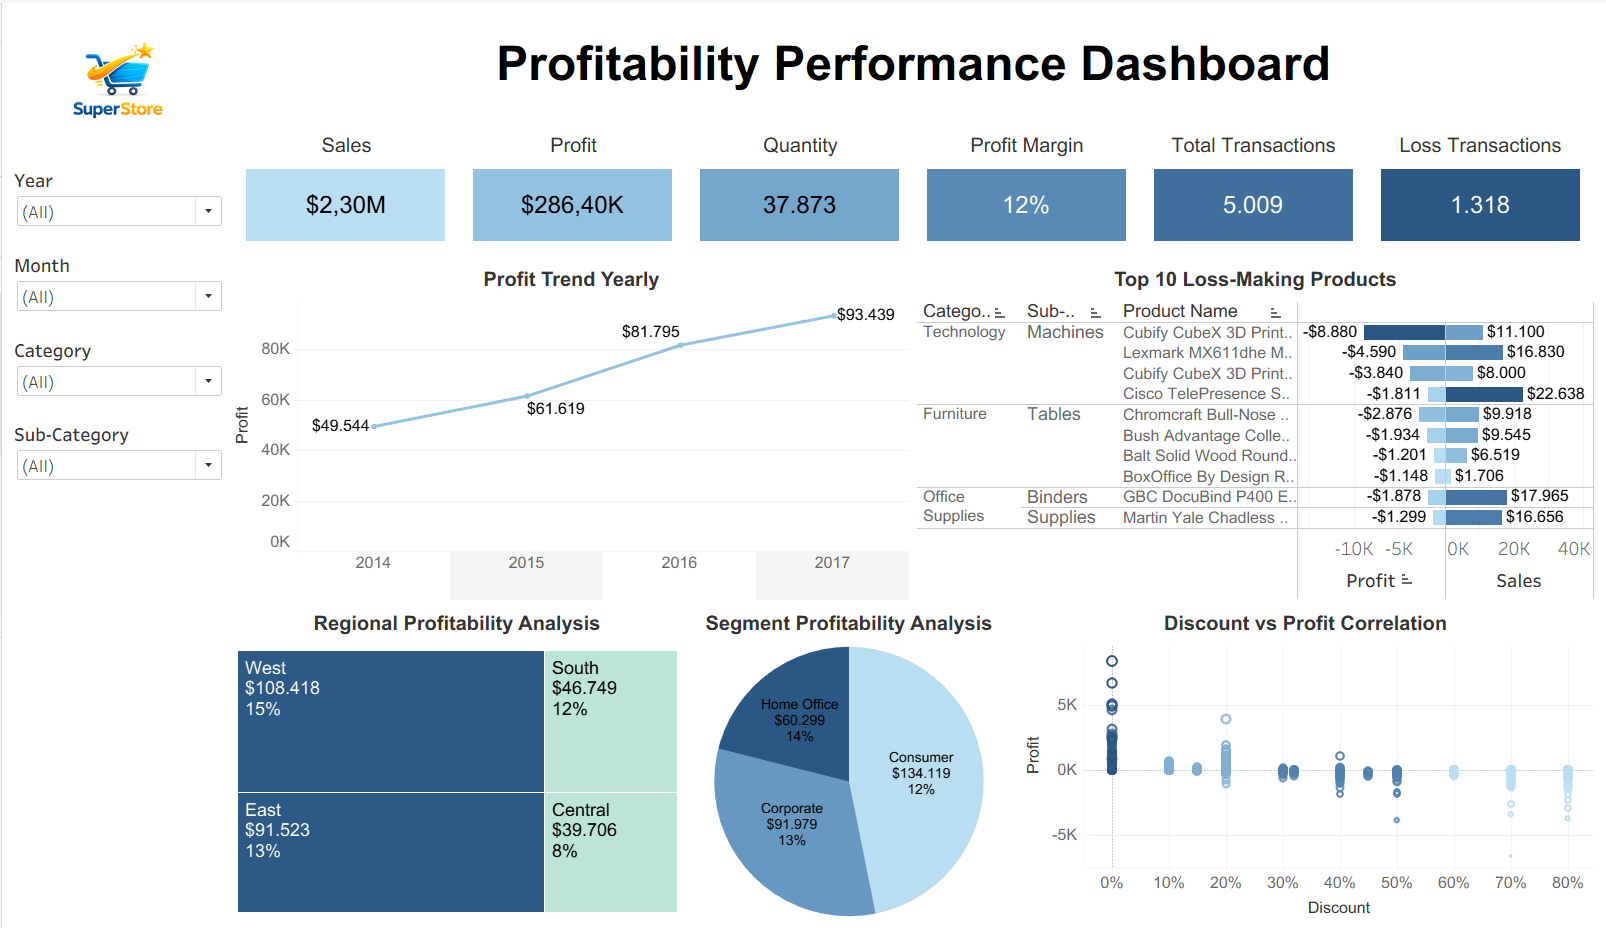

The dashboard page shown, as its layout file describes it:
{"tool":"tableau","page":{"name":"Dashboard 1","canvas":[1000,1000],"units":"permille","ordinal":0},"visuals":[{"type":"image","param":"Image/9d9e0a35-97c0-4b79-a8a0-7d8b784bca5d.png","box":[5,8.6,136.4,164.2]},{"type":"text","box":[141.4,8.6,853.6,115]},{"type":"worksheet","title":"Key Performance Index","mark":"Square","box":[141.4,123.6,853.6,153.9]},{"type":"filter","title":"Profit Trend Yearly","param":"[federated.0najs9x1mjbhto1a5r0yh0ihtnk8].[yr:Order Date:ok]","box":[5,172.8,136.4,91.8]},{"type":"filter","title":"Profit Trend Yearly","param":"[federated.0najs9x1mjbhto1a5r0yh0ihtnk8].[mn:Order Date:ok]","box":[5,264.6,136.4,91.8]},{"type":"worksheet","title":"Profit Trend Yearly","mark":"Automatic","rows":["Profit"],"cols":["Order Date"],"box":[141.4,277.5,426.8,371.4]},{"type":"worksheet","title":"Top 10 Loss-Making Products","mark":"Automatic","rows":["Category","Sub-Category","Product Name"],"cols":["Profit","Sales"],"box":[568.2,277.5,426.8,371.4]},{"type":"filter","title":"Top 10 Loss-Making Products","param":"[federated.0najs9x1mjbhto1a5r0yh0ihtnk8].[none:Category:nk]","box":[5,356.4,136.4,90.7]},{"type":"filter","title":"Top 10 Loss-Making Products","param":"[federated.0najs9x1mjbhto1a5r0yh0ihtnk8].[none:Sub-Category:nk]","box":[5,447.1,136.4,544.3]},{"type":"worksheet","title":"Regional Profitability Analysis","mark":"Automatic","box":[141.4,649,284.5,342.4]},{"type":"worksheet","title":"Segment Profitability Analysis","mark":"Pie","box":[425.9,649,204.5,342.4]},{"type":"worksheet","title":"Discount vs Profit Correlation","mark":"Automatic","rows":["Profit"],"cols":["Discount"],"box":[630.4,649,364.6,342.4]}]}

Visuals, with their boxes on the dashboard's canvas, which has no fixed pixel size, in thousandths of its width and height (x1, y1, x2, y2). These are canvas units, not pixel positions in the 1606x928 screenshot, which may show the page scaled, cropped or inside an application window:
image: l=5, t=9, r=141, b=173
text: l=141, t=9, r=995, b=124
"Key Performance Index" worksheet (Square marks): l=141, t=124, r=995, b=278
"Profit Trend Yearly" filter: l=5, t=173, r=141, b=265
"Profit Trend Yearly" filter: l=5, t=265, r=141, b=356
"Profit Trend Yearly" worksheet: l=141, t=278, r=568, b=649
"Top 10 Loss-Making Products" worksheet: l=568, t=278, r=995, b=649
"Top 10 Loss-Making Products" filter: l=5, t=356, r=141, b=447
"Top 10 Loss-Making Products" filter: l=5, t=447, r=141, b=991
"Regional Profitability Analysis" worksheet: l=141, t=649, r=426, b=991
"Segment Profitability Analysis" worksheet (Pie marks): l=426, t=649, r=630, b=991
"Discount vs Profit Correlation" worksheet: l=630, t=649, r=995, b=991
